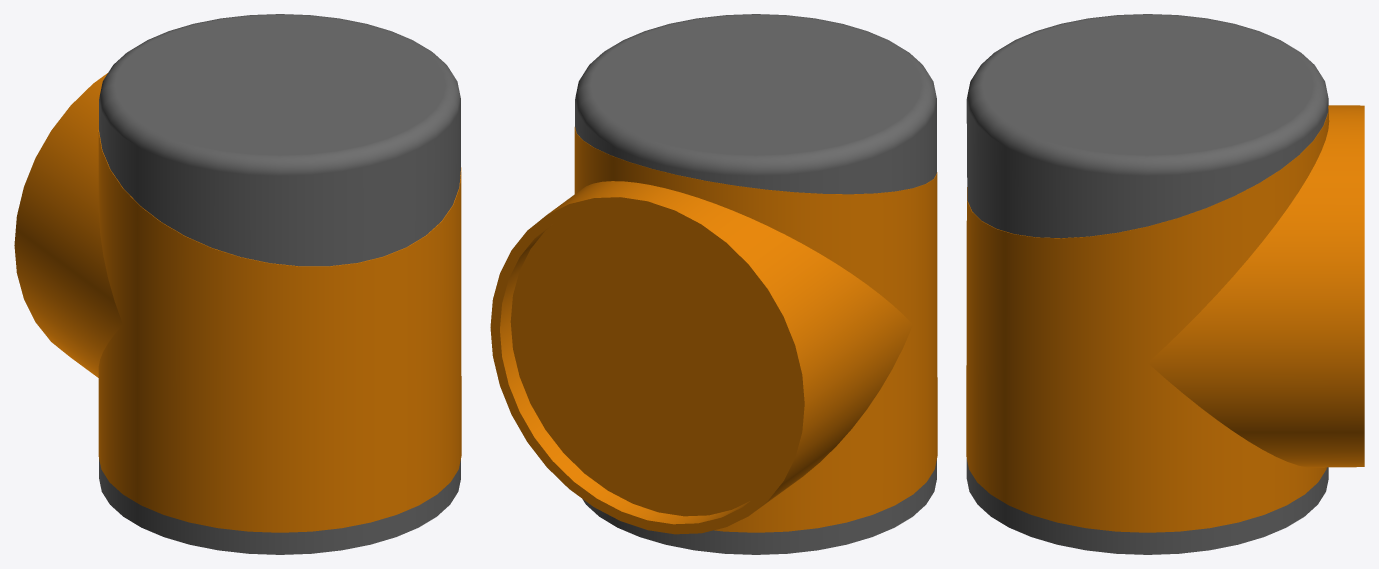
3 renders of one model, left to right at view 1: azimuth 30°, elevation 25°; view 2: azimuth 150°, elevation 25°; view 3: azimuth 270°, elevation 25°, orthographic.
Visible parts, largest first — view 1: NONE; view 2: NONE; view 3: NONE.
Boxes of the visible parts, x1,y1,x2,y2 form: NONE: (14, 14, 461, 554); NONE: (490, 14, 937, 554); NONE: (966, 14, 1364, 554).
Size of the model in its own units: 0.184 by 0.202 by 0.22.
